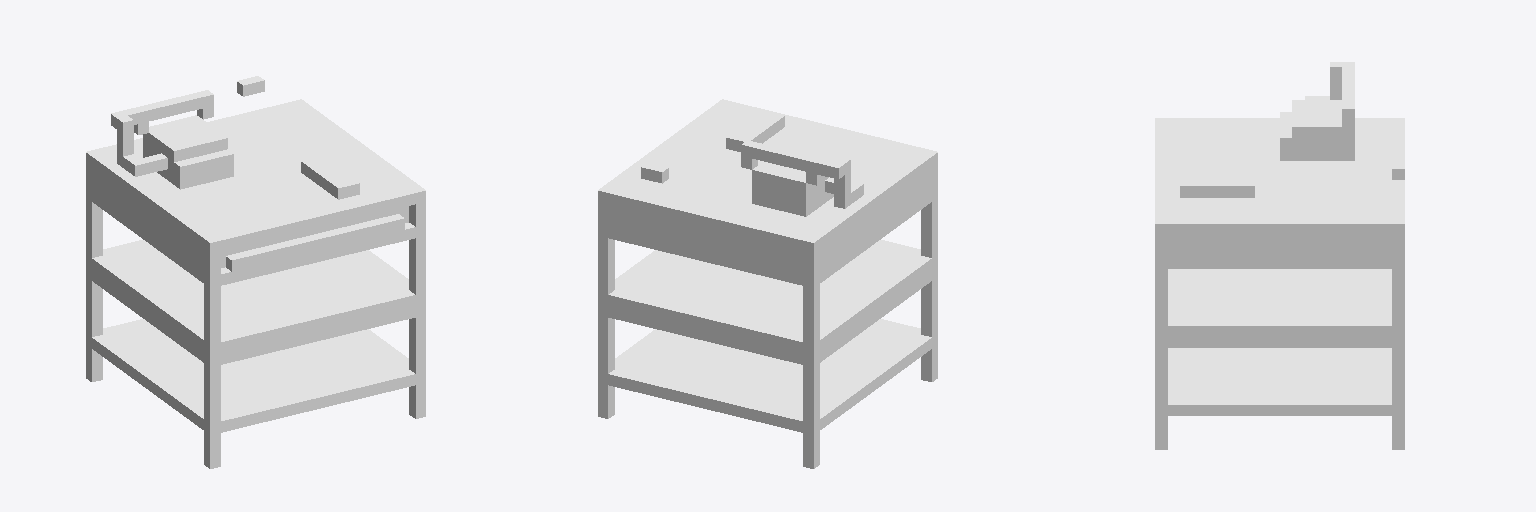
The model's file is BedTable.obj.
3 renders of one model, left to right at view 1: azimuth 30°, elevation 25°; view 2: azimuth 150°, elevation 25°; view 3: azimuth 270°, elevation 25°, orthographic.
Visible parts, largest first — view 1: object 1; view 2: object 1; view 3: object 1.
Boxes of the visible parts, <box> form: object 1: <box>86,76,425,468</box>; object 1: <box>598,99,937,468</box>; object 1: <box>1155,62,1404,449</box>.
Size of the model in its own units: 2 by 2.5 by 2.